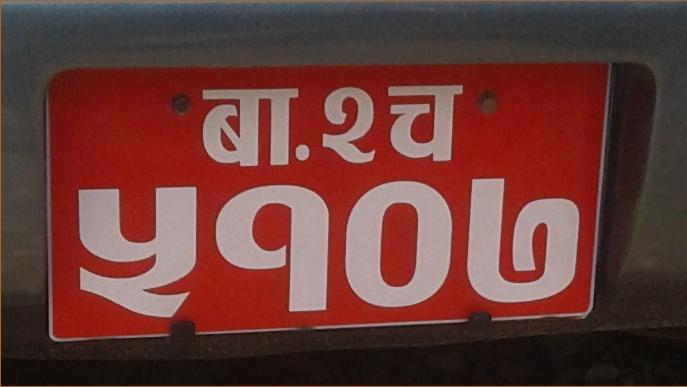0: (340, 177, 457, 313)
1: (209, 181, 337, 317)
2: (314, 80, 382, 170)
5: (67, 179, 204, 321)
7: (463, 174, 584, 305)
ba: (197, 81, 311, 174)
cha: (383, 79, 465, 168)
